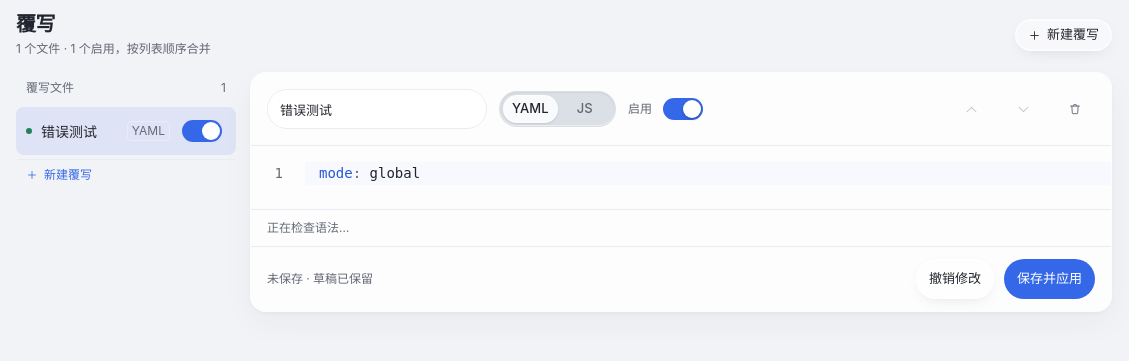
Test: 覆写配置生成失败保留输入，不重启内核、不提示成功
Click the button "保存并应用": (1050, 279) [1004,259,1095,299]
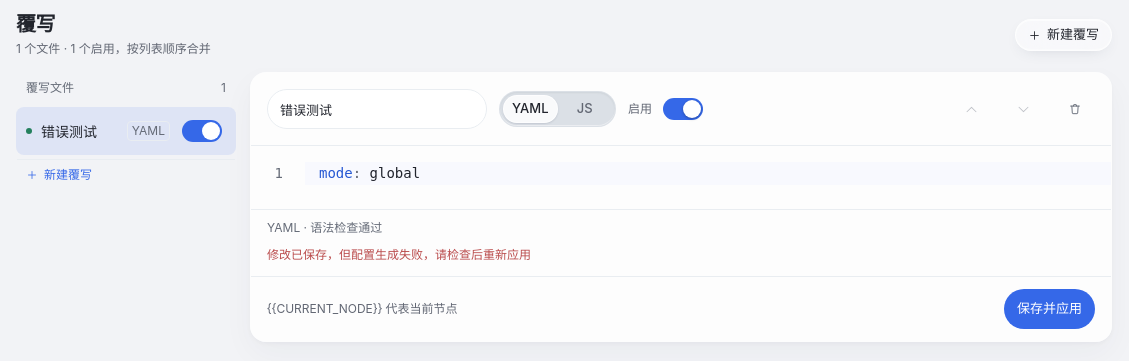
Expected: the text box labelled "mode: global" is shown, [305,162,1111,185]
Result: the text "配置生成失败" is shown at [267,247,531,262]
